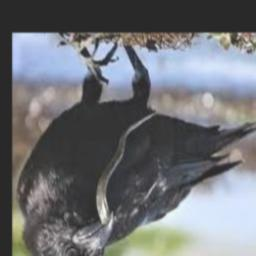Crow: (16, 43, 256, 256)
